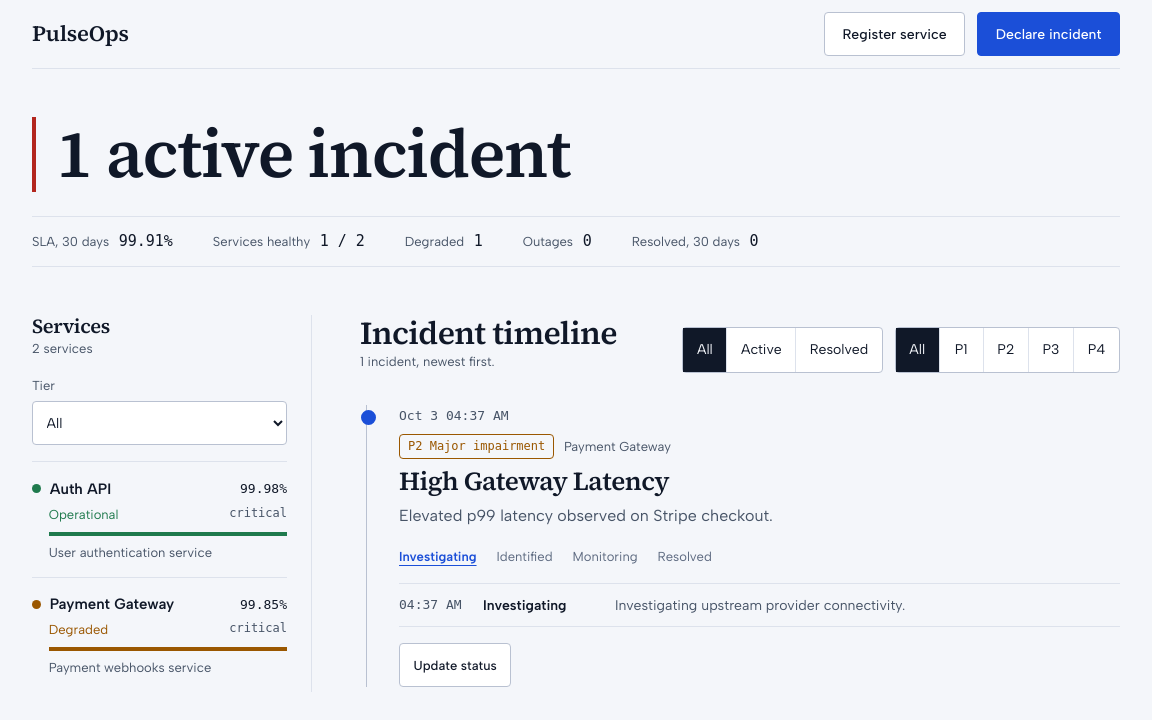
Test case: PulseOps Frontend App › opens the update modal from the incident timeline and posts an update
Check: the heading "High Gateway Latency" is shown, box [399,463,669,499]
Click the button "Update status" at x=455, y=665, box [399,643,511,687]
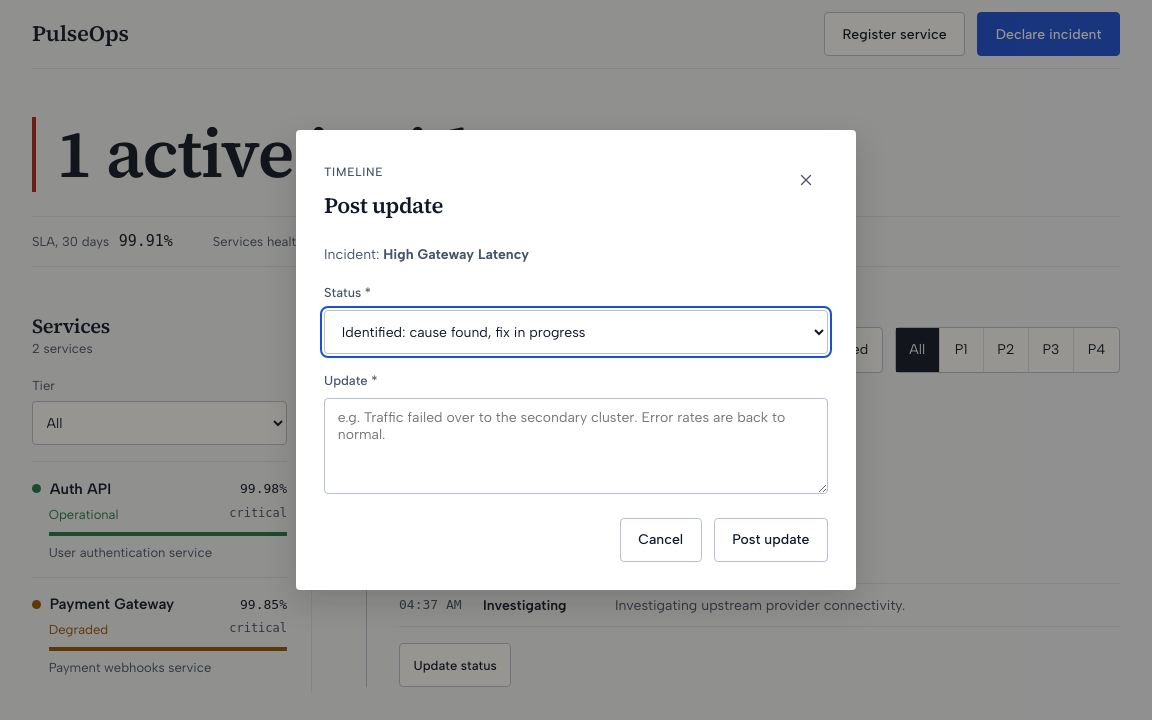
Check: the heading "Post update" is shown, box [324,187,443,223]
Type "Root cause found." into the text box labelled "Update *" at x=576, y=446, box [324,398,828,494]
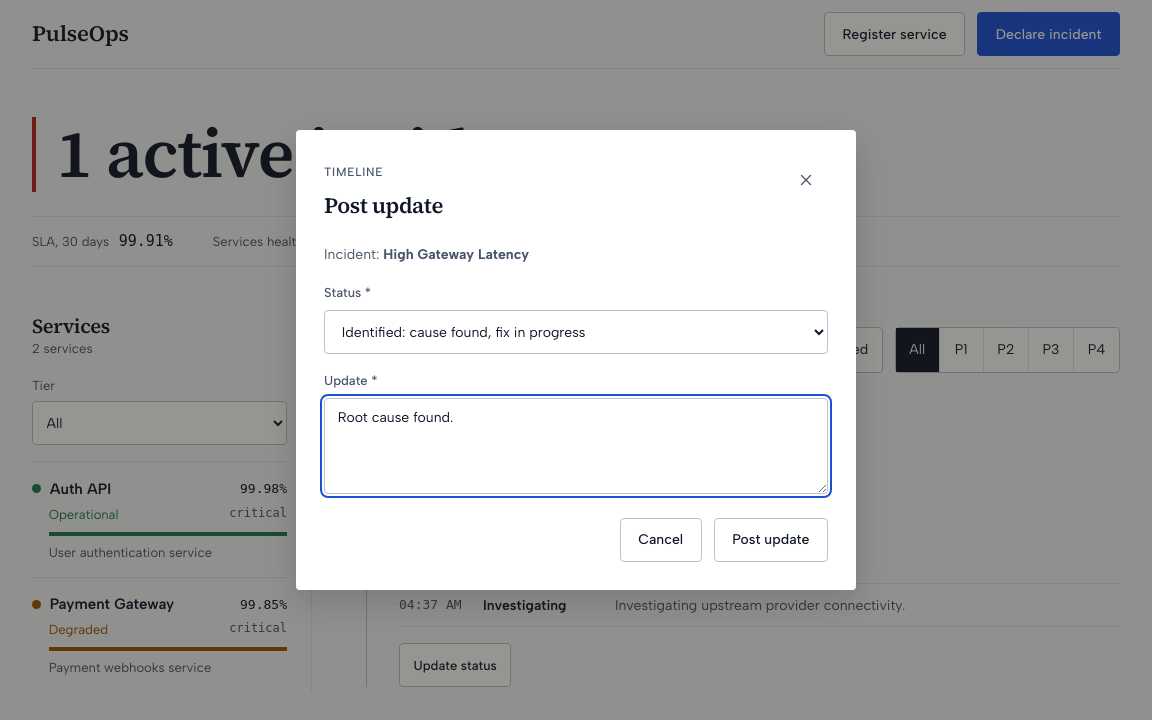
Click the button "Post update" at x=771, y=540, box [714,518,828,562]
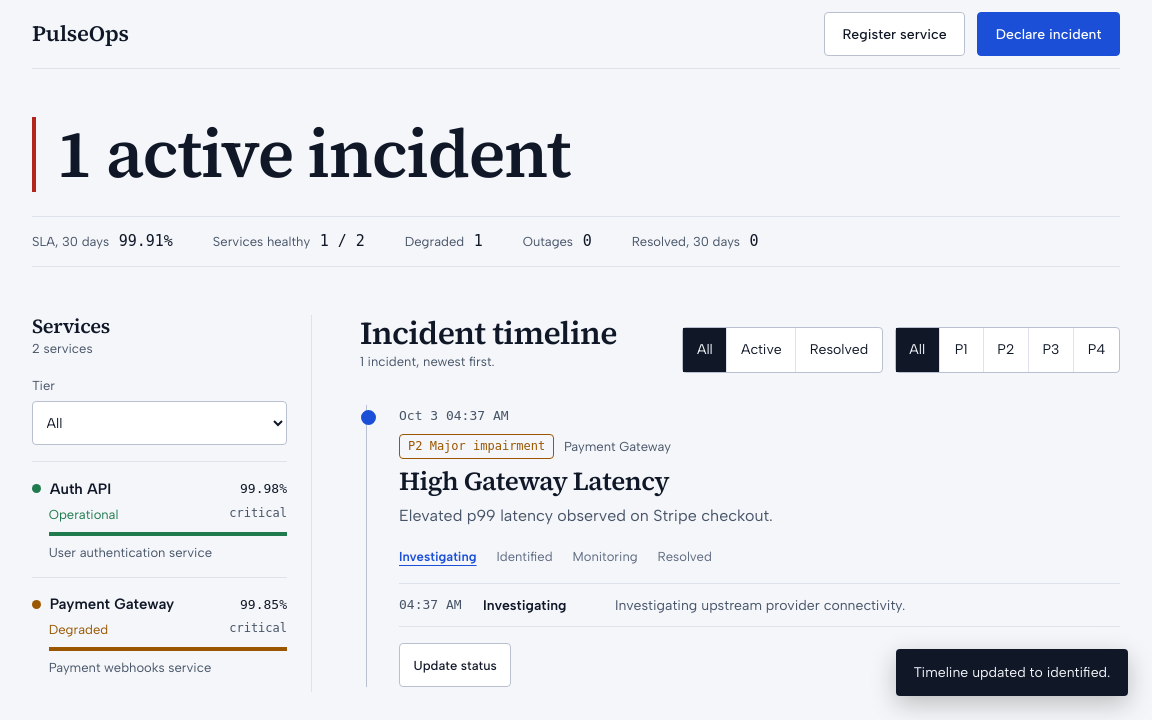
Check: the dialog is gone
